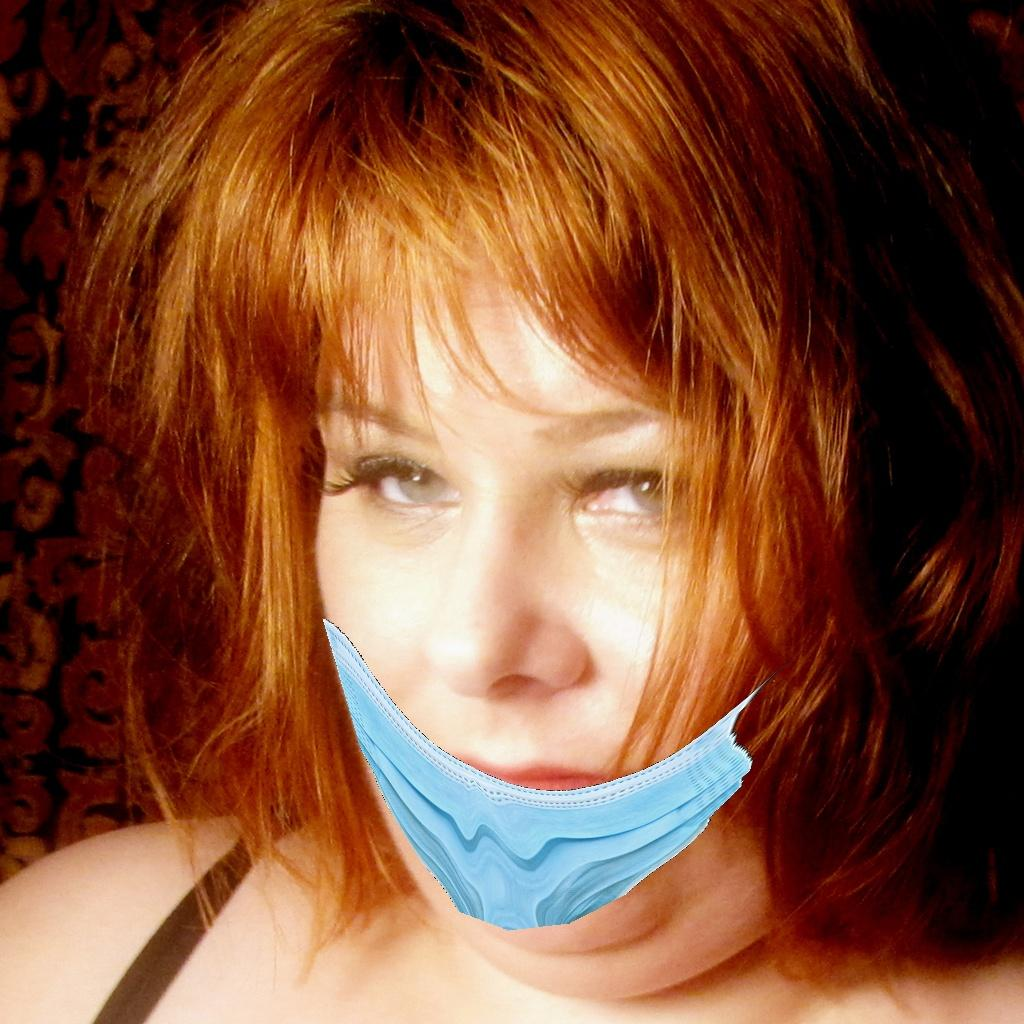Máscara Incorreta: (282, 342, 791, 908)
